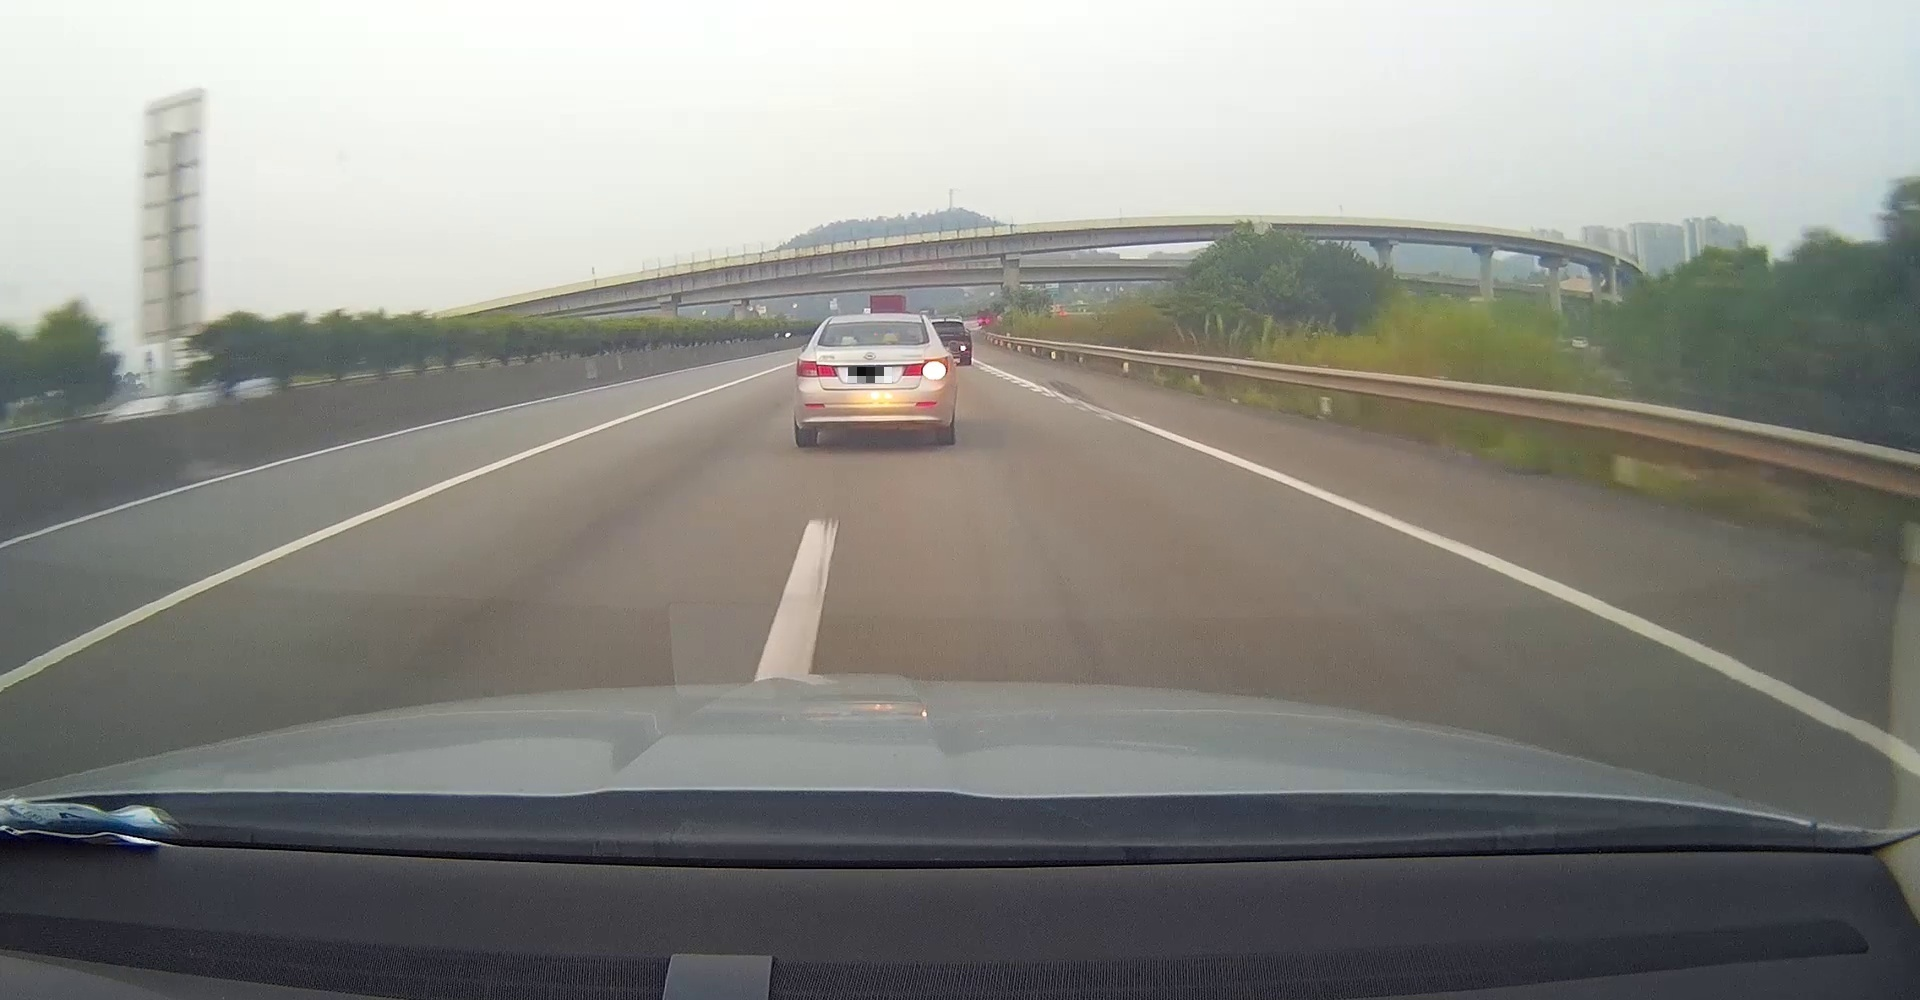L_light: (795, 358, 838, 378)
R_light: (902, 355, 949, 377)
T_light: (863, 320, 888, 324)
day-right: (792, 312, 957, 448)
plate_1: (848, 367, 891, 383)
